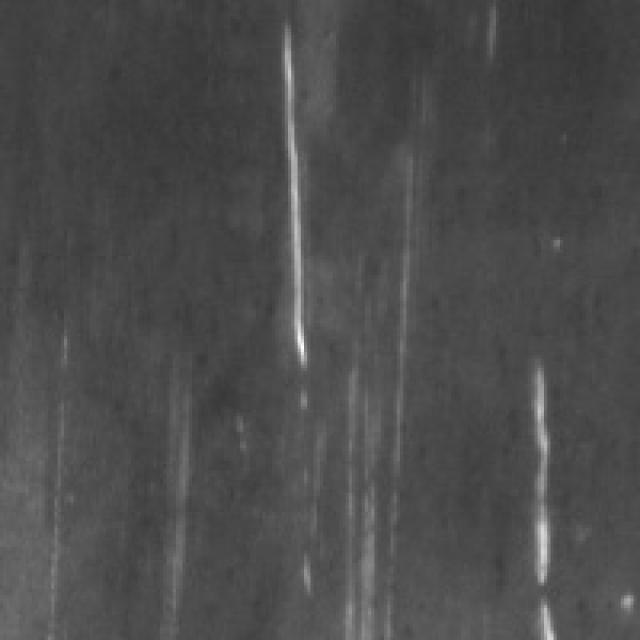scratches: (339, 237, 410, 630), (262, 10, 314, 371), (509, 352, 566, 634), (150, 362, 196, 627)
